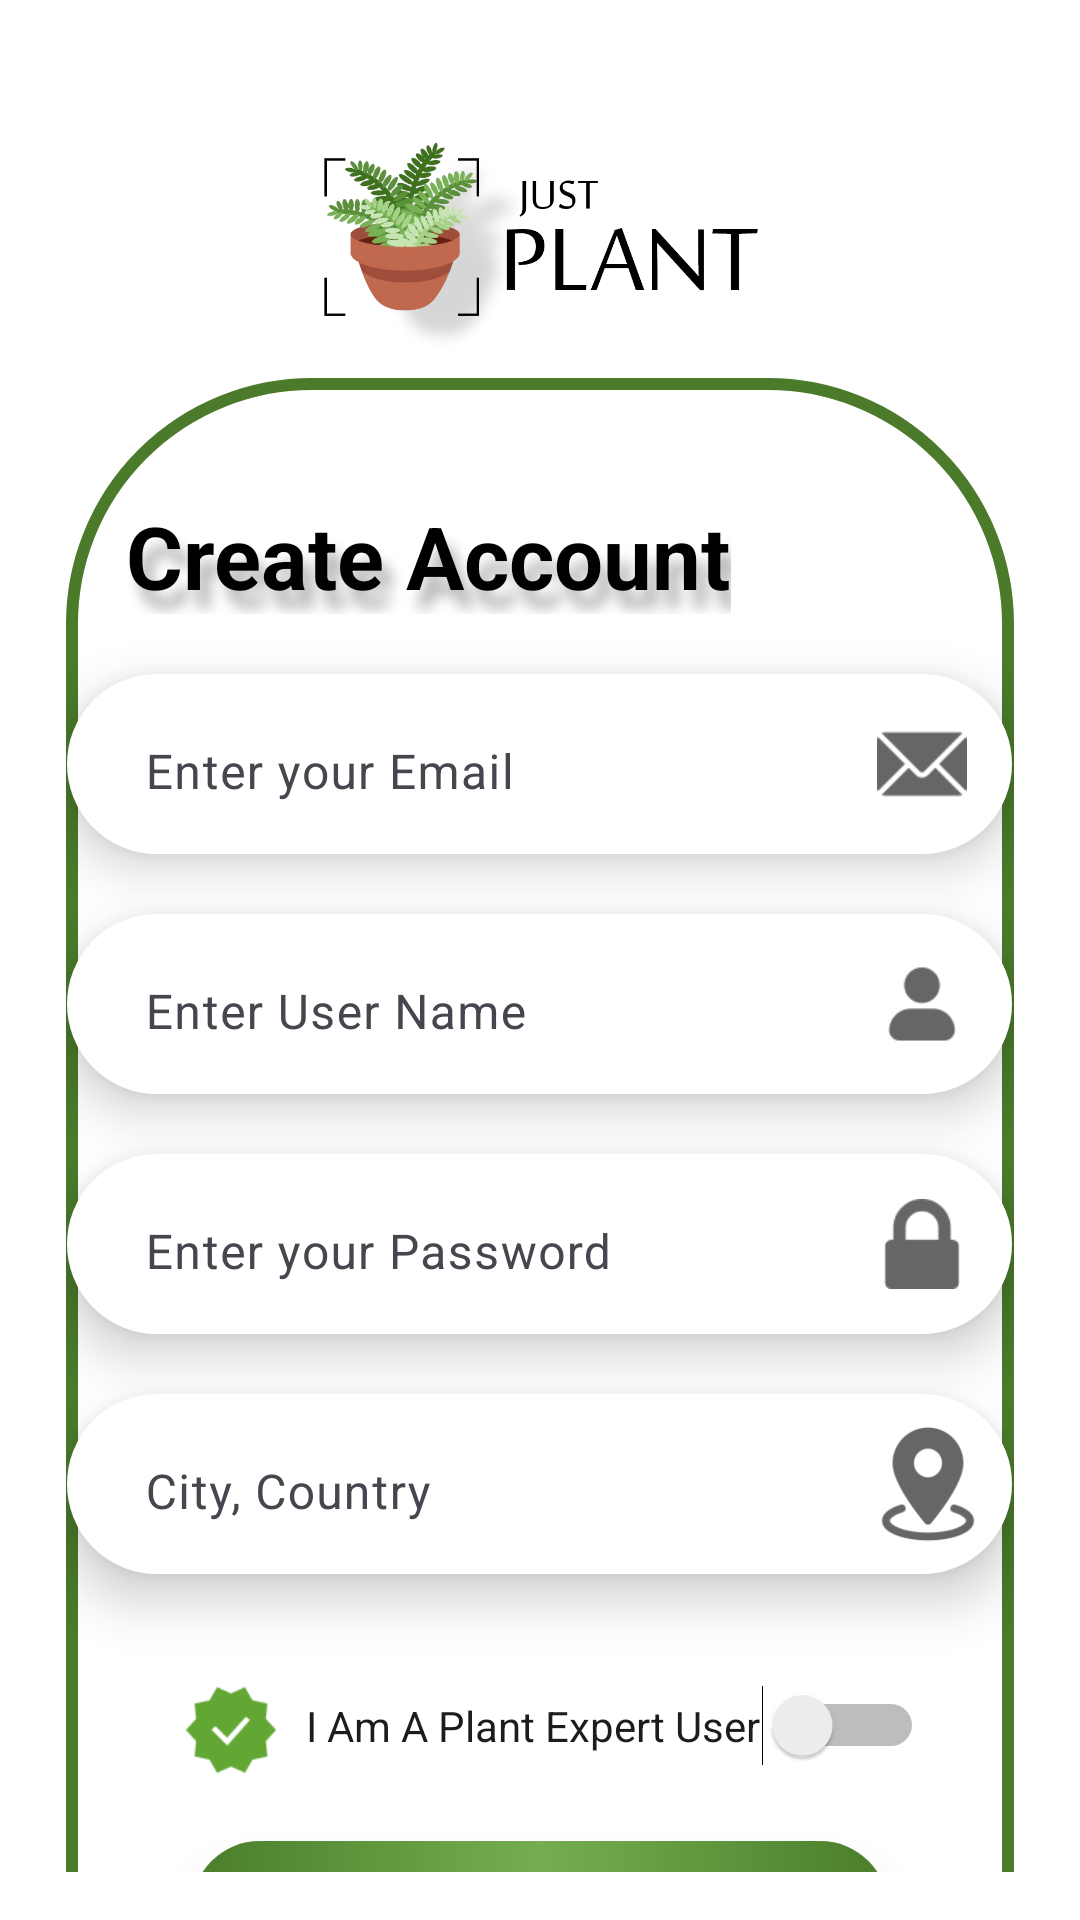

Icons on this 1080px×1920px Android screen, each with its box as (x1, y1, x2, y2):
location: (881, 1427, 975, 1541)
lock: (885, 1199, 959, 1289)
